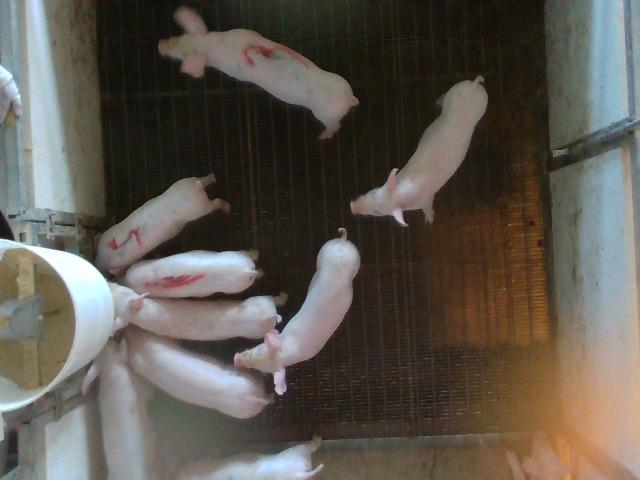pig-1: (124, 250, 262, 298)
pig-3: (159, 6, 359, 138)
pig-5: (96, 174, 230, 276)
